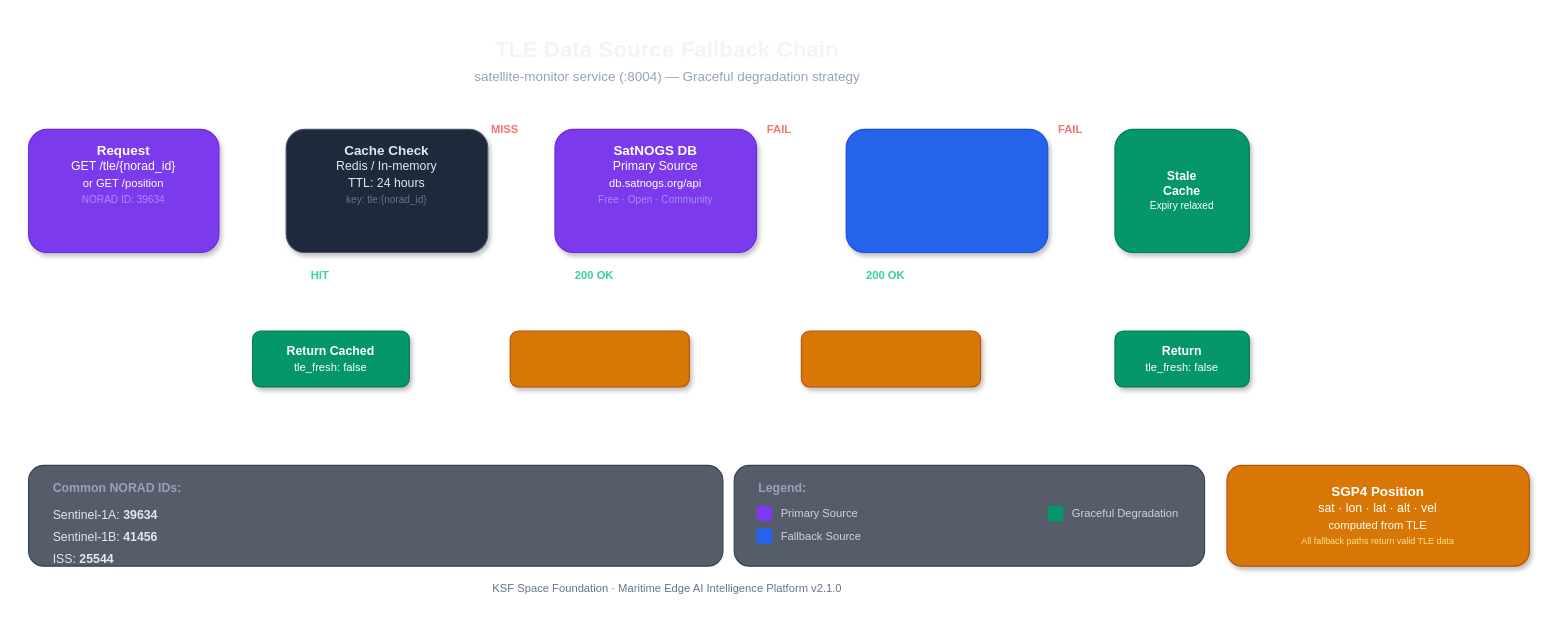
Image size: 1556x618. Some labels were removed from this diagram. The centre of each missing label's shape, as x and y in pixels:
"Cache & Return tle_source: celestrak" belongs at (891,360).
"Cache & Return tle_source: satnogs" belongs at (600,360).
"Celestrak Fallback Source celestrak.org/shape NASA · High Reliability" belongs at (947,192).
